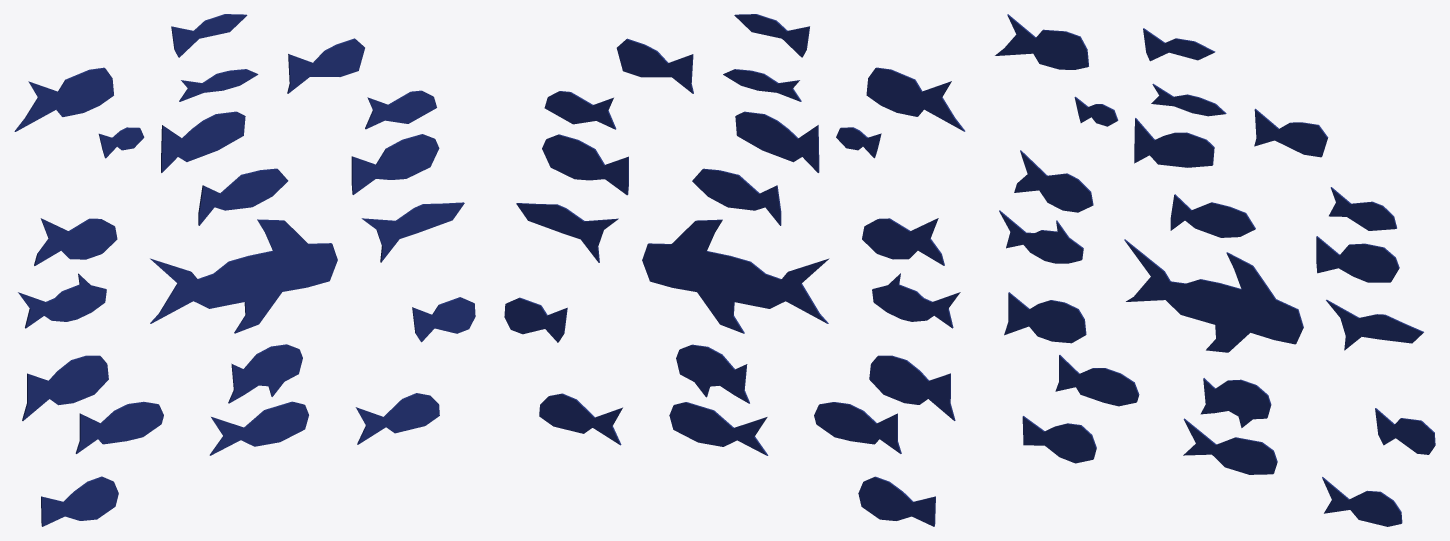
Rendered from Cardume.fbx.
The picture shows the model from 3 angles, left to right: view 1: azimuth 30°, elevation 25°; view 2: azimuth 150°, elevation 25°; view 3: azimuth 330°, elevation 25°; orthographic projection. The views are drawn at different scales.
Parts seen in each view (by area): view 1: Plane; view 2: Plane; view 3: Plane.
Boxes of the visible parts, x1,y1,x2,y2 form: Plane: (14, 14, 475, 526); Plane: (504, 14, 965, 526); Plane: (995, 14, 1435, 526).
Size of the model in its own units: 453 by 447 by 5.19.
Materials: 1 (1 with a texture image).
